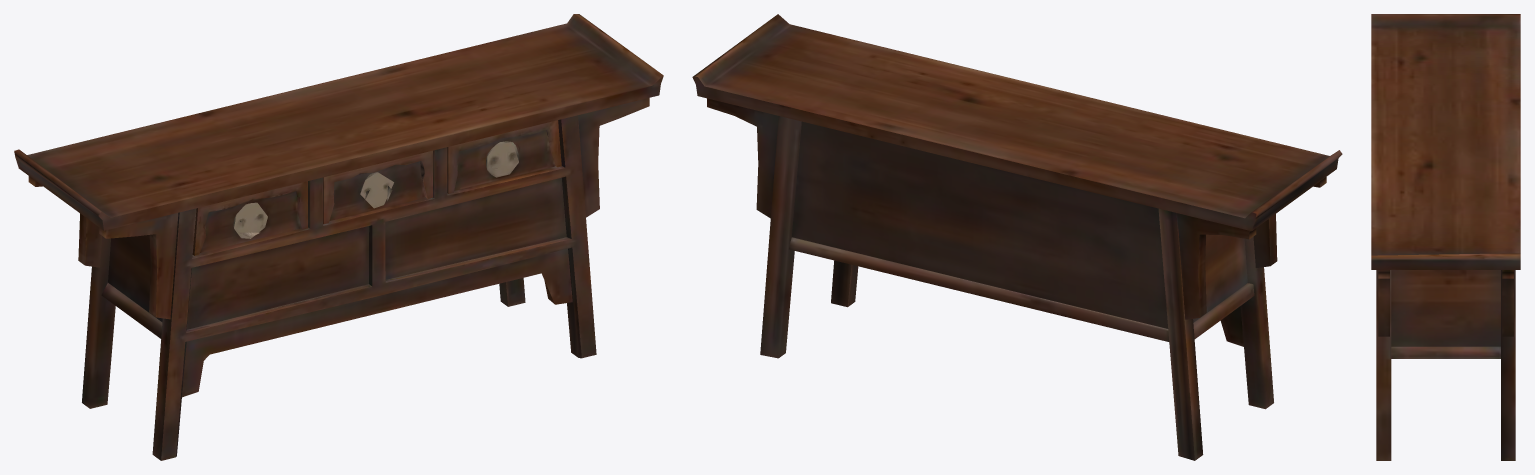
The model's file is chinese_commode.glb.
3 renders of one model, left to right at view 1: azimuth 30°, elevation 25°; view 2: azimuth 150°, elevation 25°; view 3: azimuth 270°, elevation 25°, orthographic. The views are drawn at different scales.
Visible parts, largest first — view 1: chinese_commode; view 2: chinese_commode; view 3: chinese_commode.
Part boxes in pixels (x1,y1,x2,y2): chinese_commode: [14, 14, 663, 460]; chinese_commode: [692, 14, 1342, 460]; chinese_commode: [1371, 14, 1520, 460].
Size of the model in its own units: 4.49 by 2.02 by 1.17.
1 material, 1 textured.
